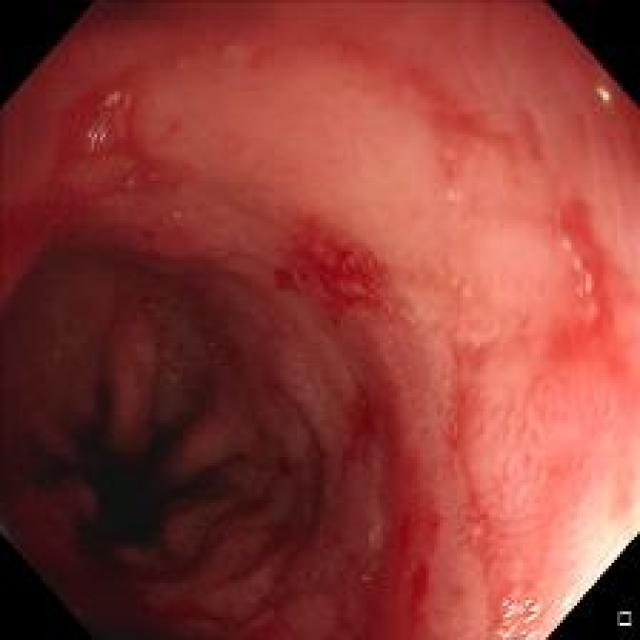blur: (400, 5, 636, 546)
bubbles: (490, 595, 542, 638)
color misalignment: (79, 115, 124, 159)
contrast: (29, 369, 249, 595)
specularity: (588, 78, 618, 110)
